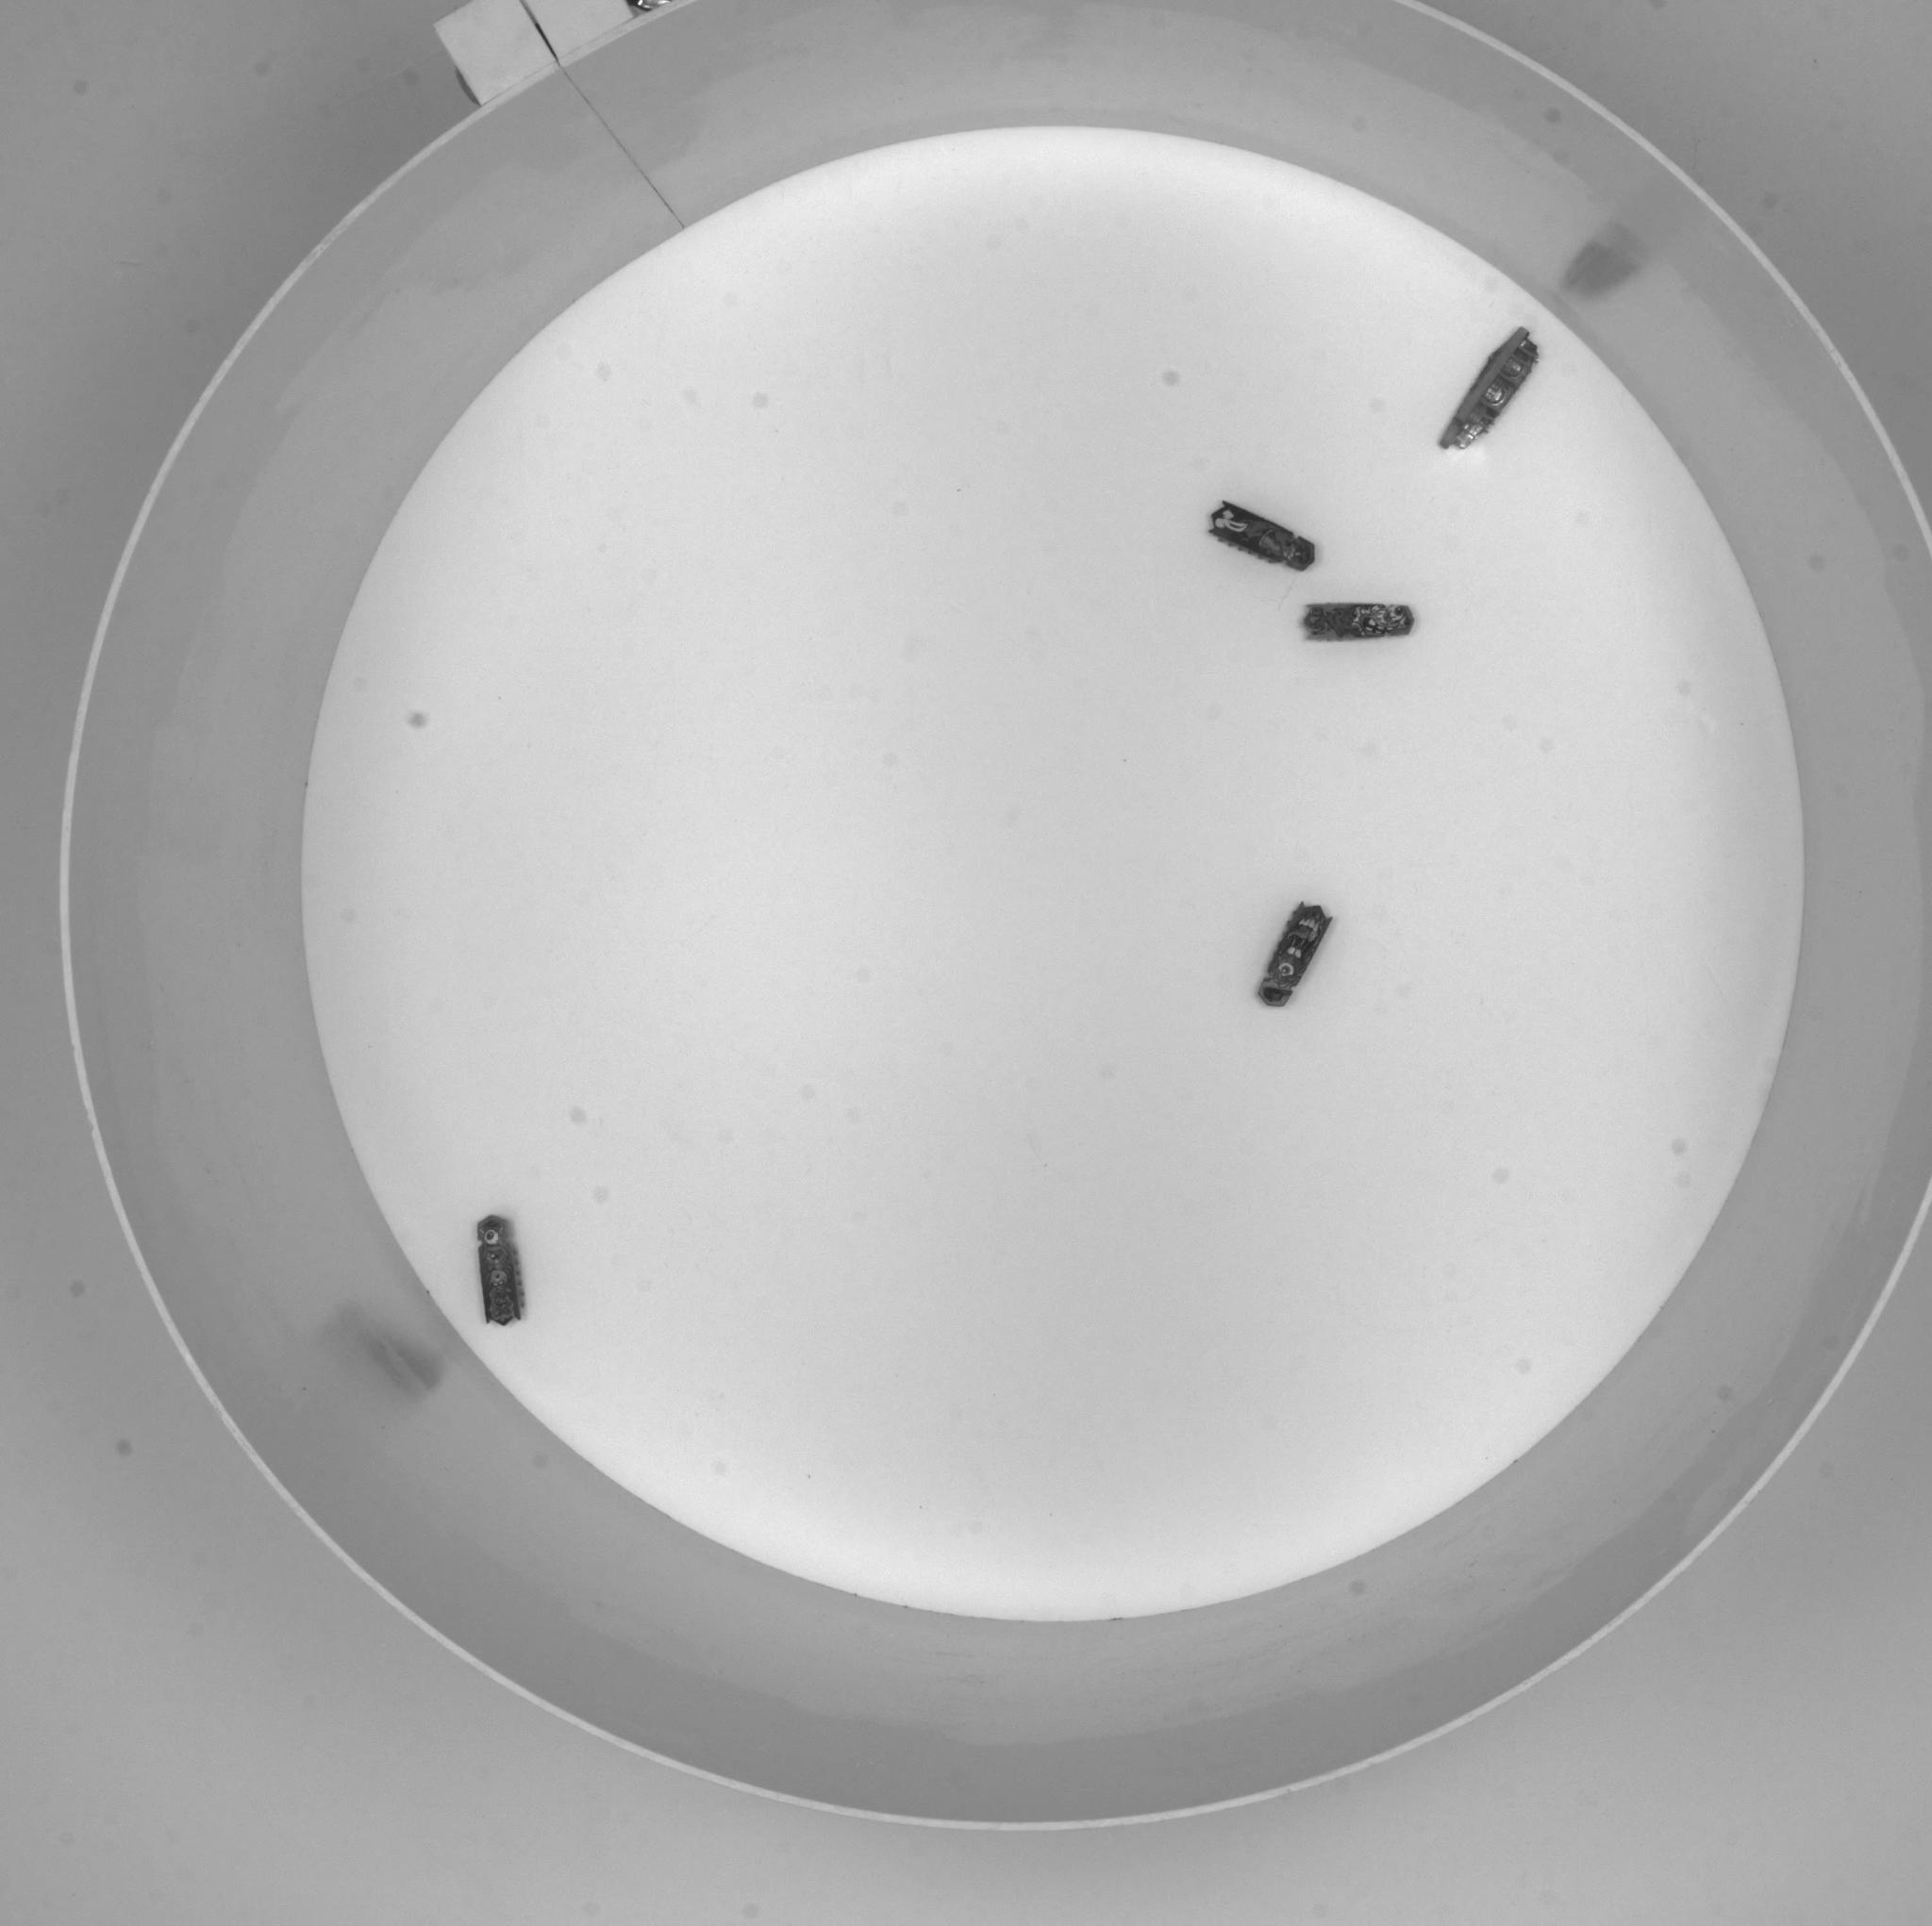bug: (1438, 326, 1539, 450), (1256, 903, 1332, 1005), (1209, 501, 1314, 571), (476, 1215, 524, 1326), (1302, 603, 1415, 640)
